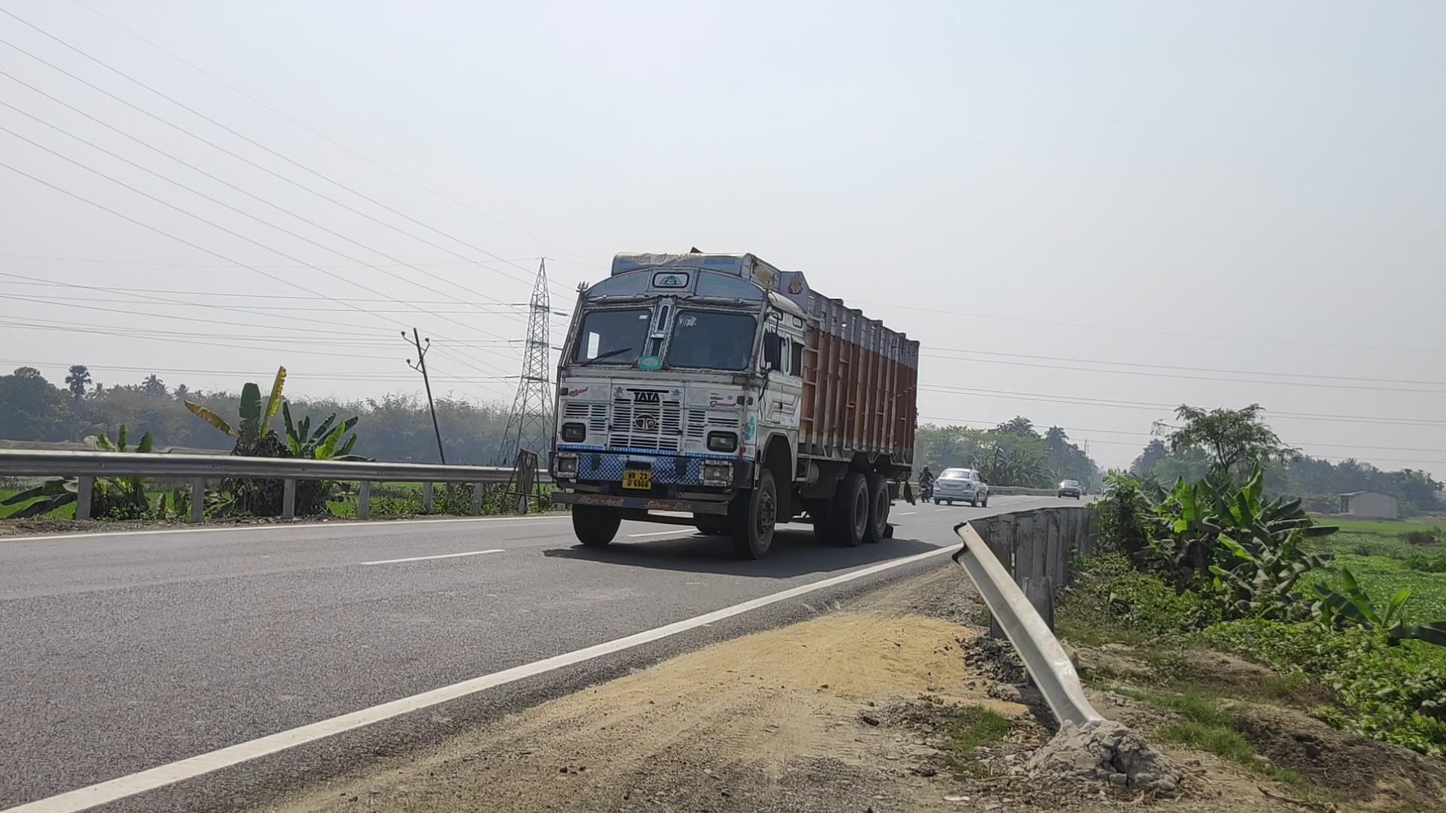bike: (918, 464, 936, 504)
car: (932, 467, 989, 507), (1057, 479, 1081, 500)
truck: (551, 251, 919, 561)
